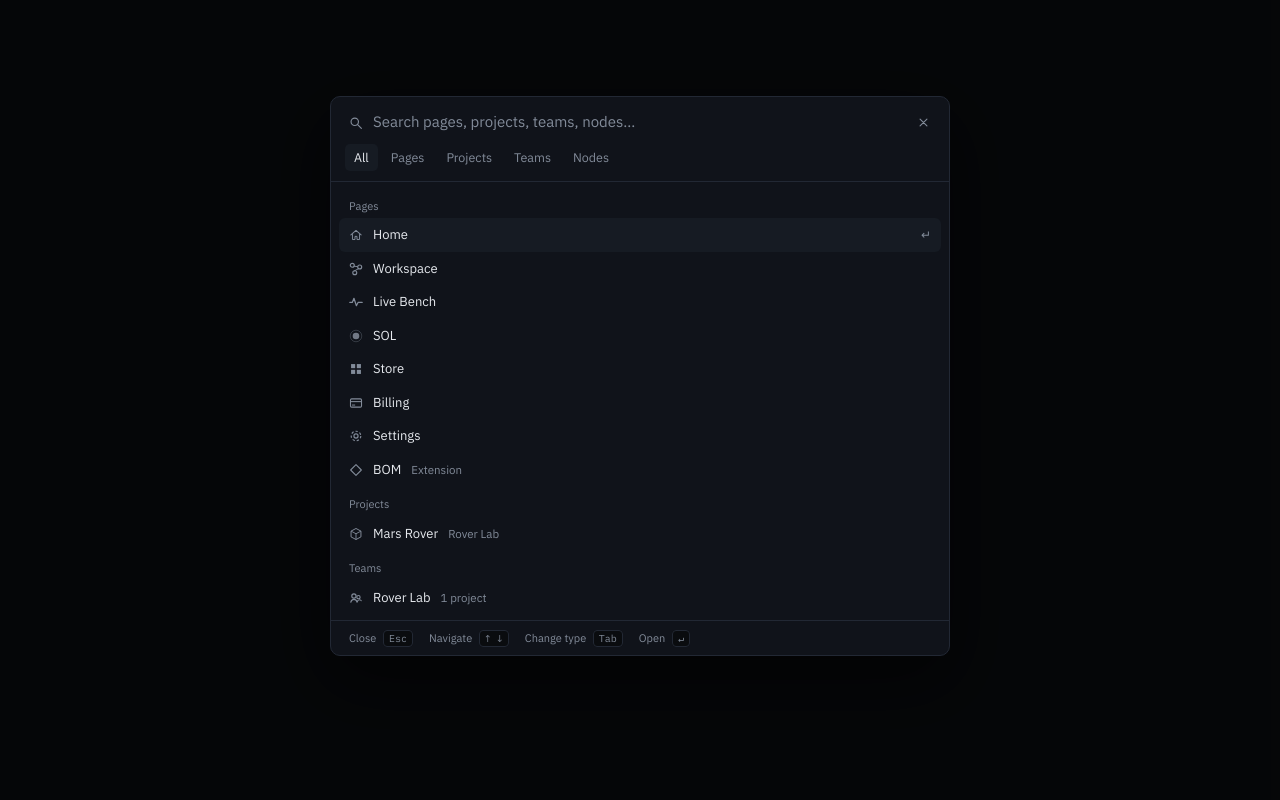
Test: PaletteHost › searches pages, extension pages, projects, teams and the open project nodes
This screenshot has width=1280, height=800.
Type "bench" into the dropdown at (638, 123), box [373, 111, 902, 134]
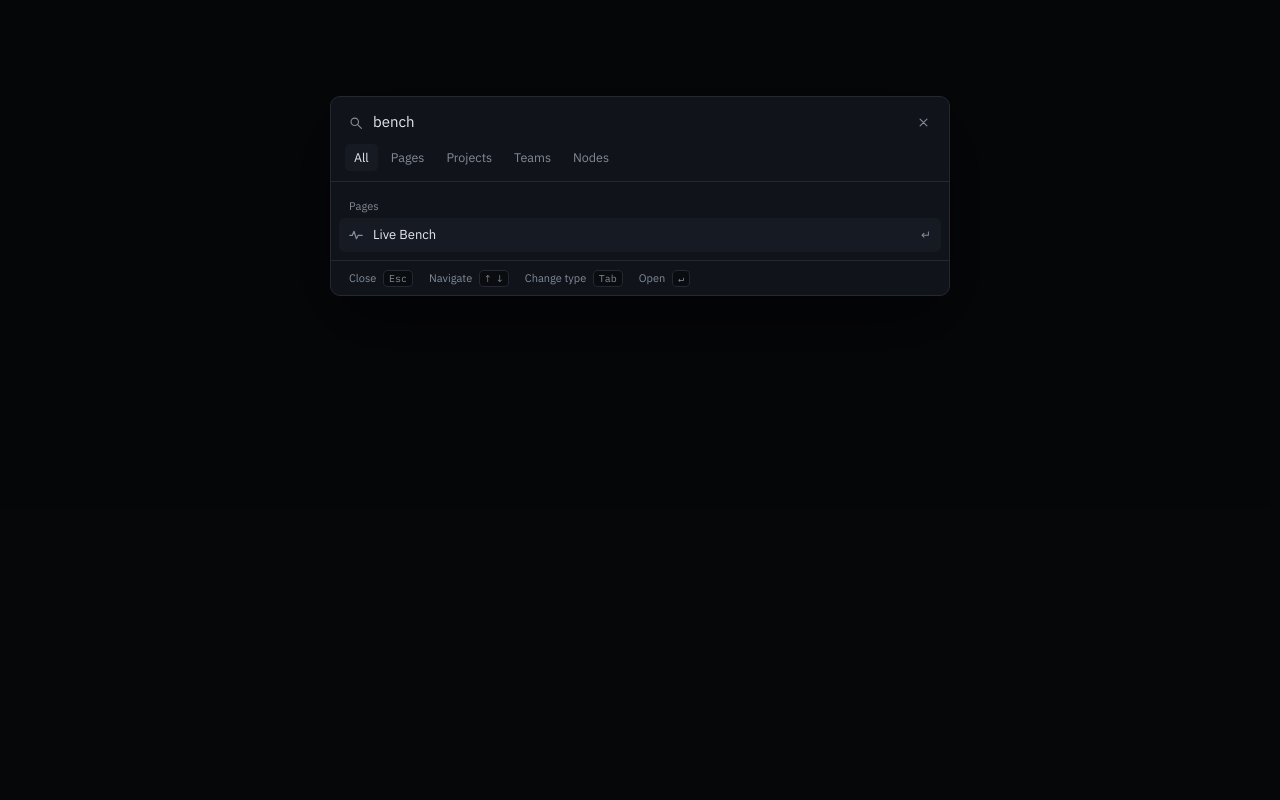
Expected: the text "Live Bench" is shown, [373, 225, 436, 245]
Replace the text in the dropdown with "bom" at (638, 123), box [373, 111, 902, 134]
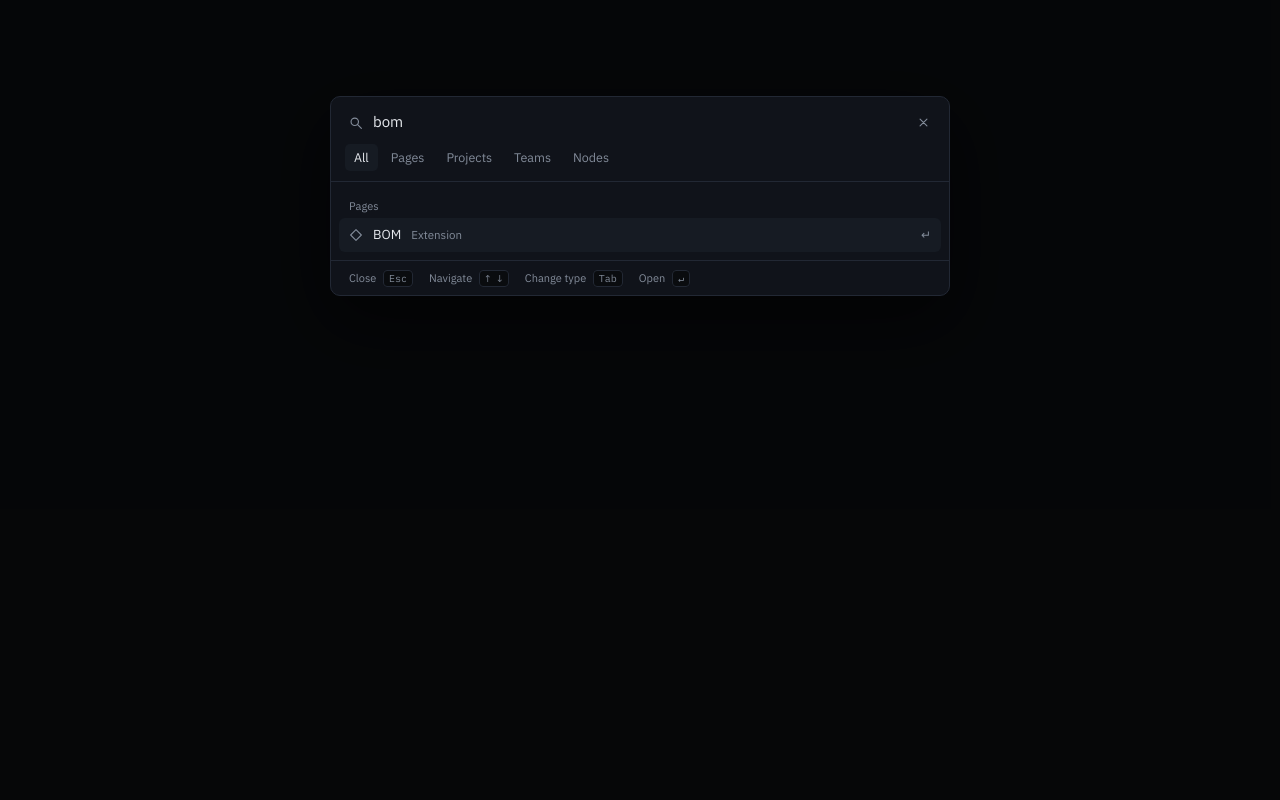
Expected: the text "BOM" is shown, [373, 225, 401, 245]
Replace the text in the dropdown with "mars" at (638, 123), box [373, 111, 902, 134]
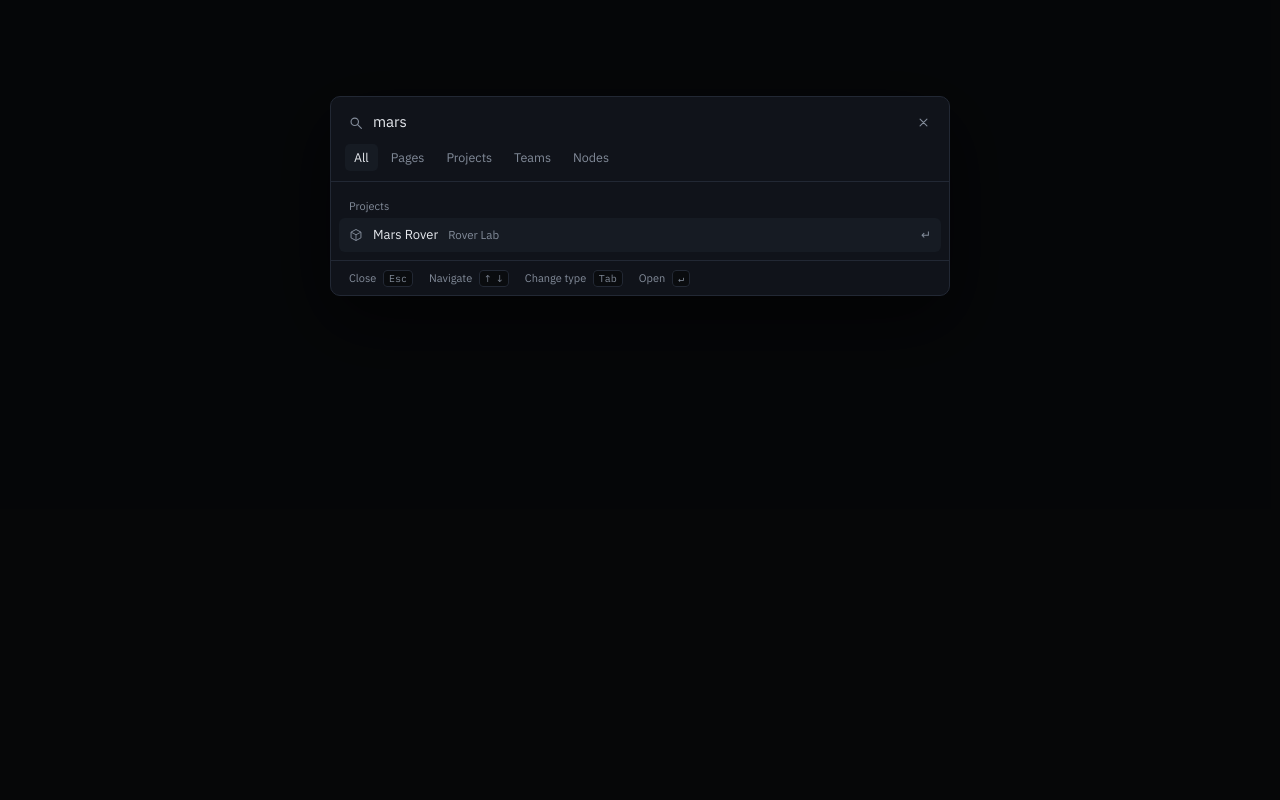
Expected: the text "Mars Rover" is shown, [373, 225, 438, 245]
Replace the text in the dropdown with "lab" at (638, 123), box [373, 111, 902, 134]
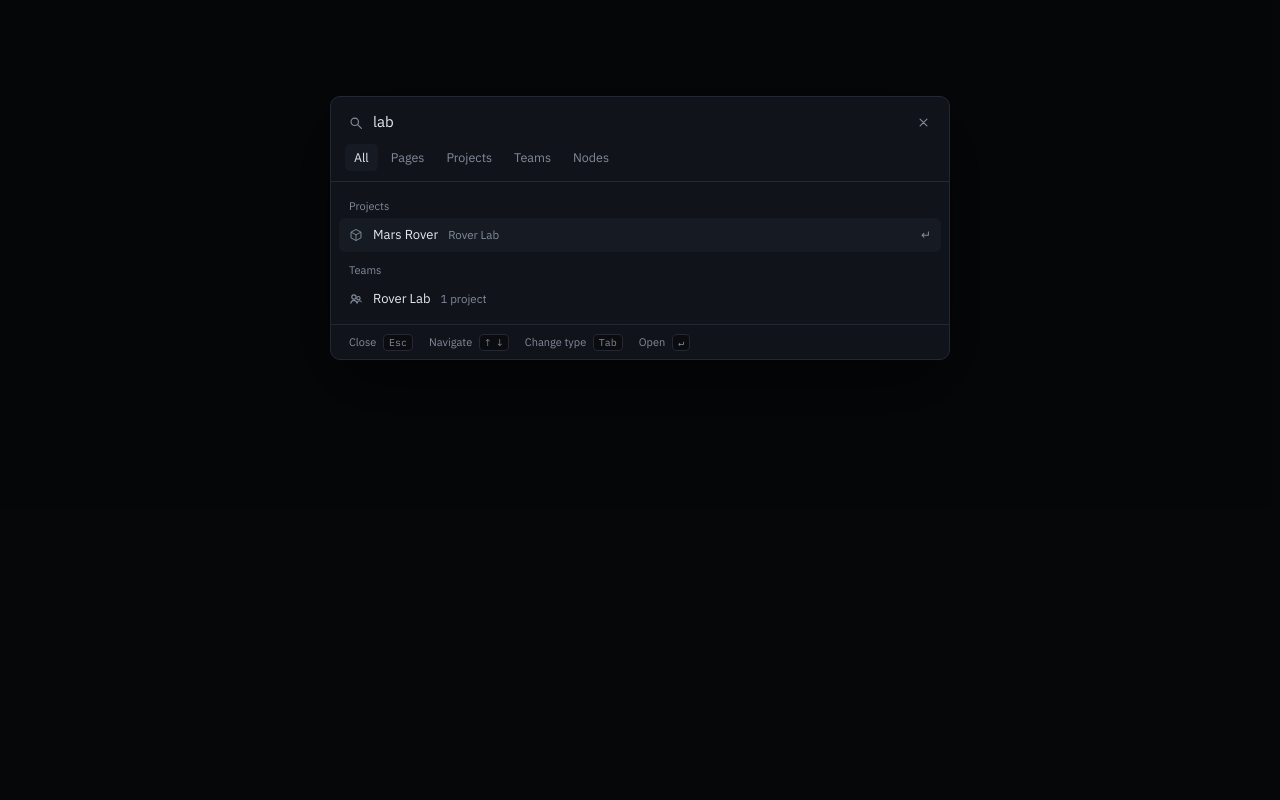
Expected: the text "Rover Lab" next to "Mars Rover" is shown, [448, 227, 499, 242]
Replace the text in the dropdown with "imu" at (638, 123), box [373, 111, 902, 134]
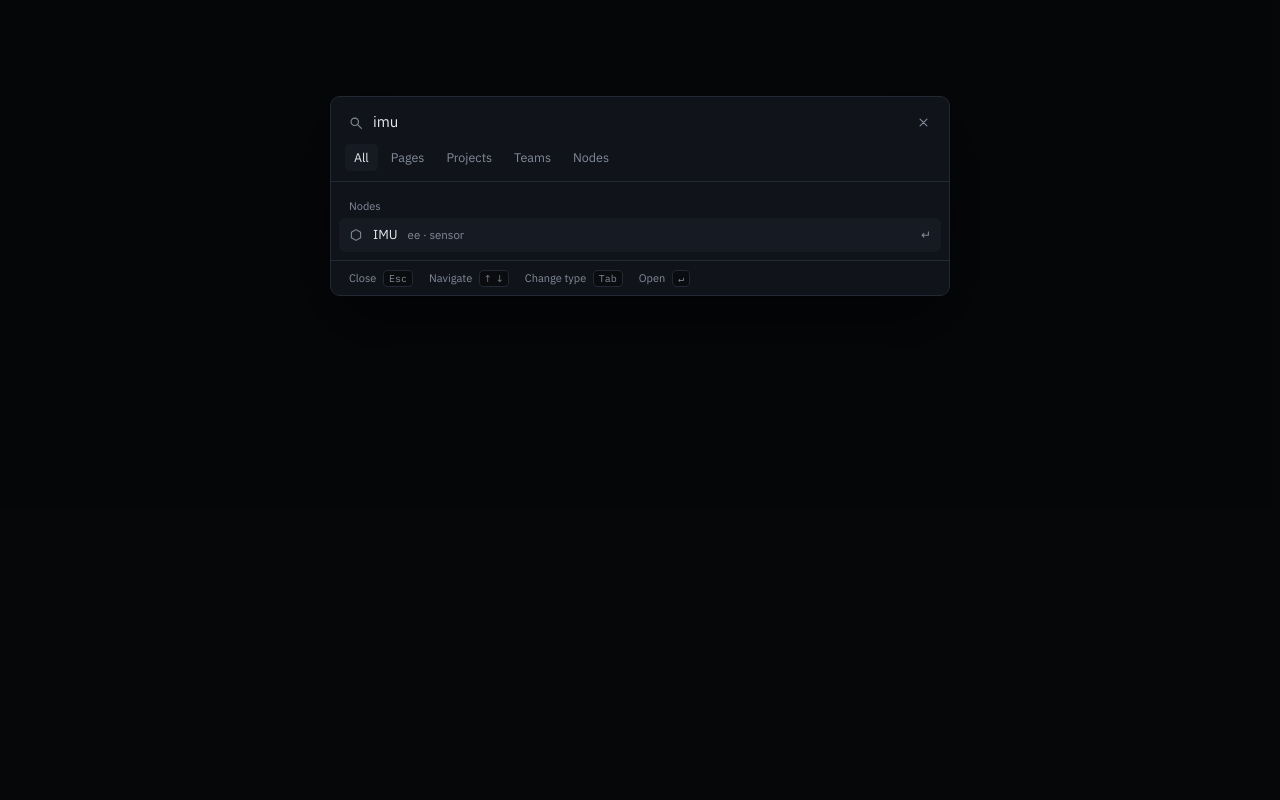
Expected: the text "IMU" is shown, [373, 225, 398, 245]
